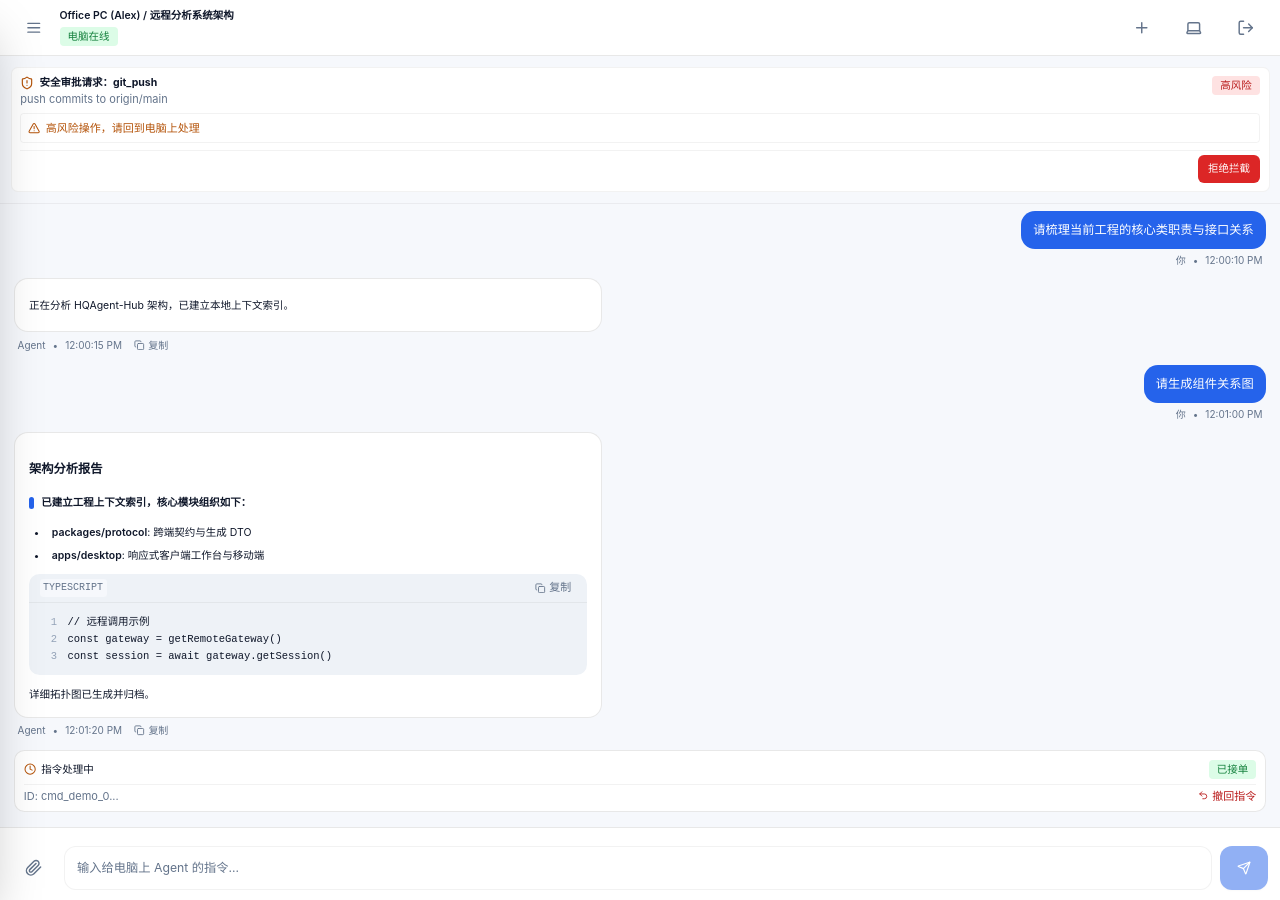
it: D50 devices and suspension › keeps the draft on a server SUSPENDED race and refreshes device state
The width and height of the screenshot is (1280, 900).
Type "保留输入内容" into the text box with placeholder "输入给电脑上 Agent 的指令..." at (638, 868), box x1=64 y1=846 x2=1212 y2=890
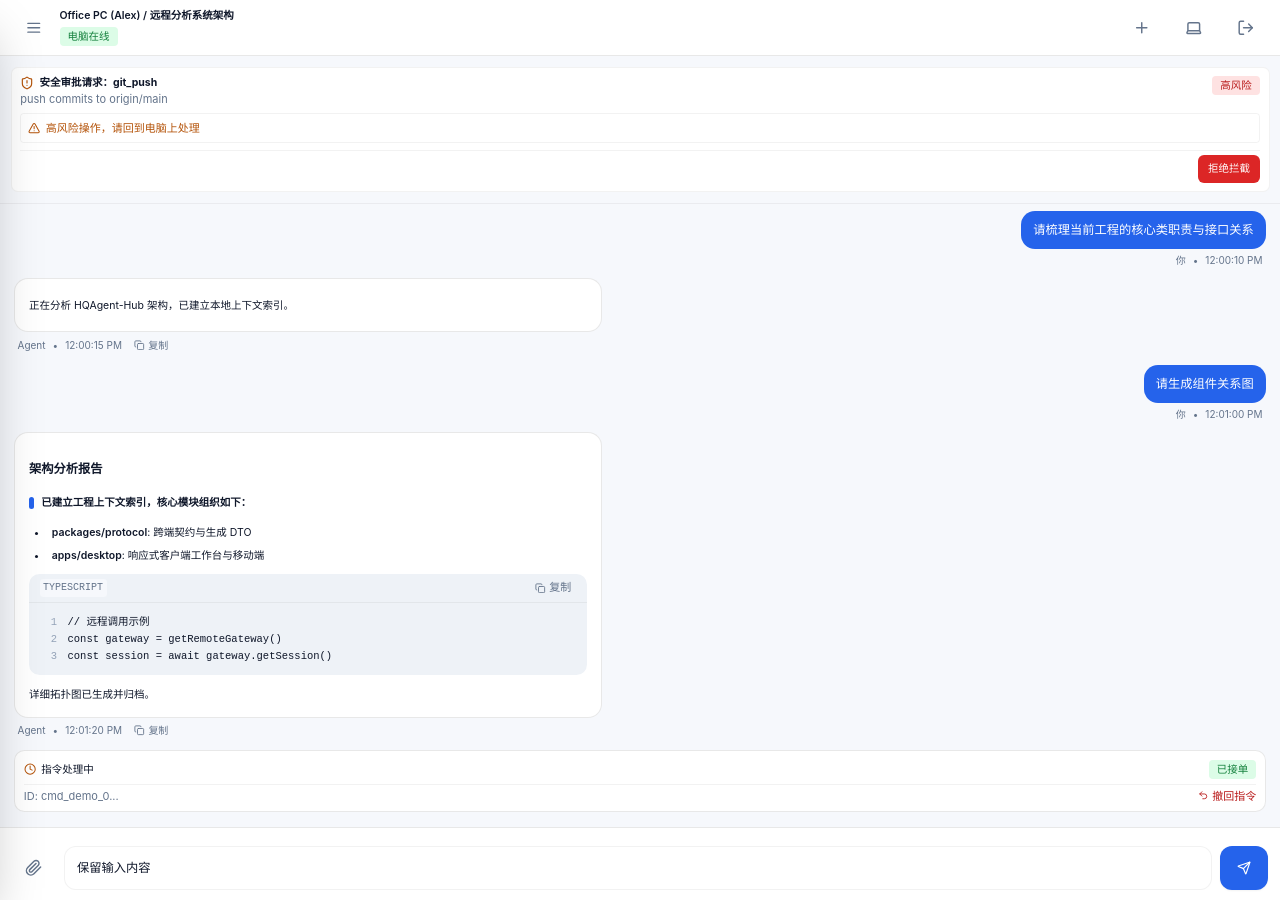
Press Enter in the text box, box x1=64 y1=846 x2=1212 y2=890
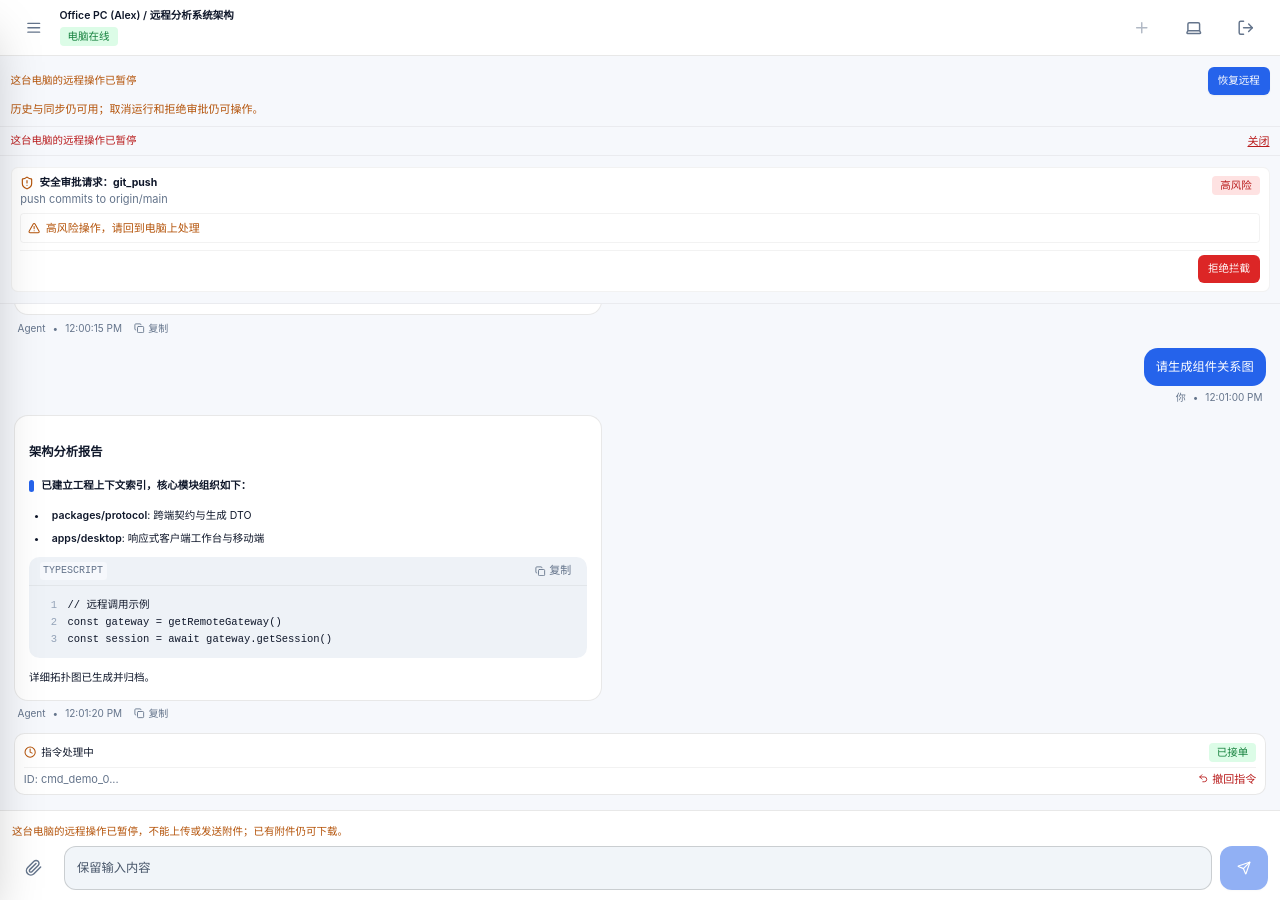
expect the text "这台电脑的远程操作已暂停" is shown: met, box x1=10 y1=74 x2=136 y2=88
